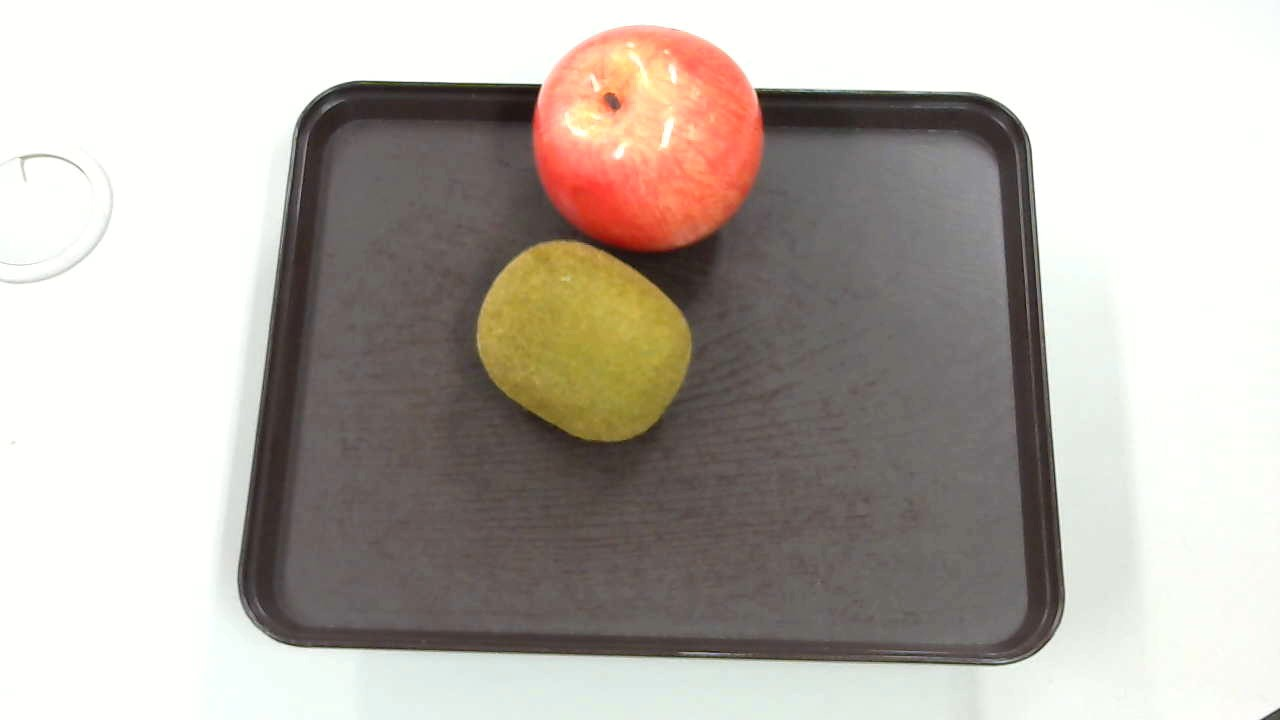kiwi fruit: (475, 237, 701, 449)
red apple: (532, 27, 764, 247)
